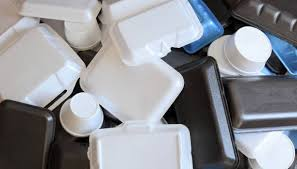styrofoam: (5, 23, 86, 112), (109, 5, 203, 65), (89, 121, 193, 169), (17, 5, 102, 23)
